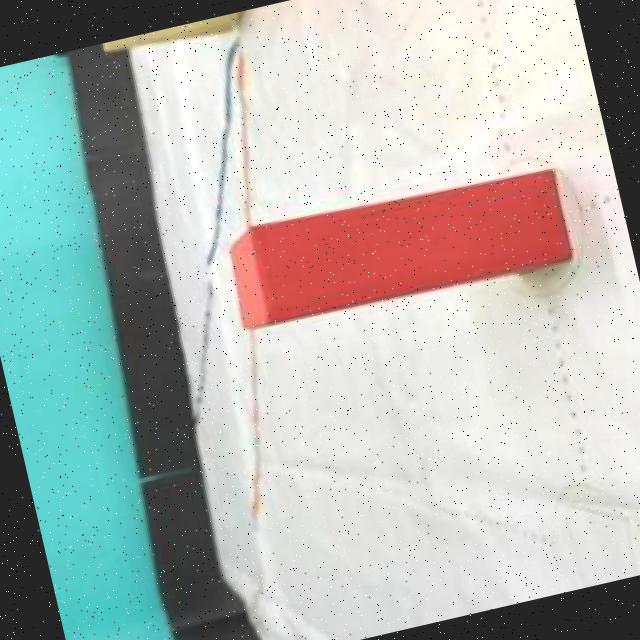redbox: (221, 155, 572, 334)
